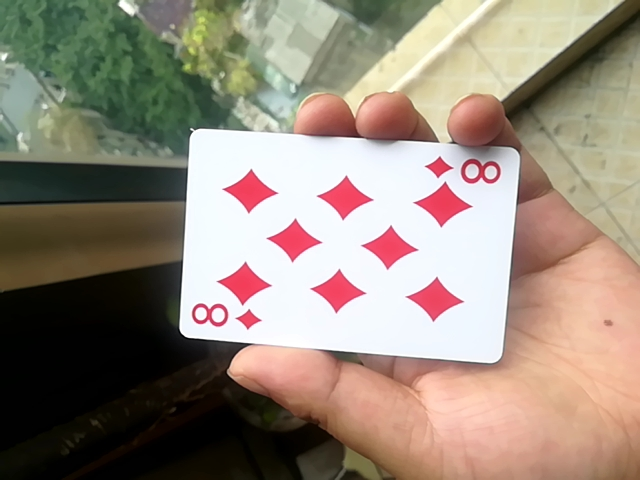fk 8: (170, 125, 523, 365)
